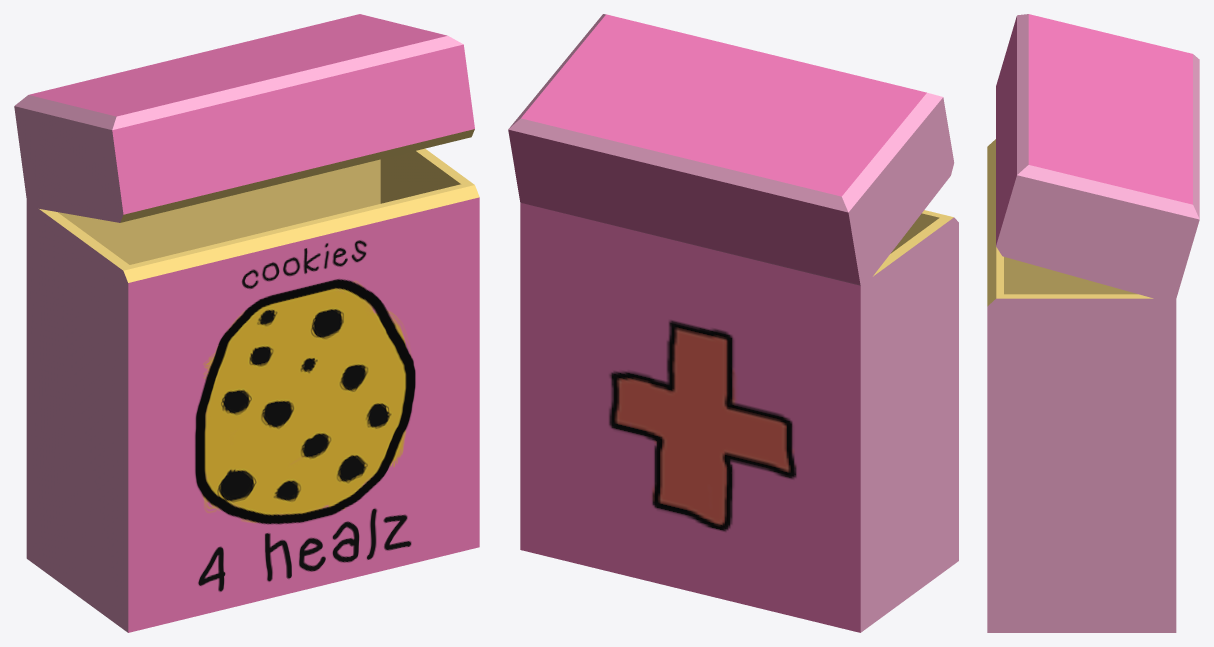
The model's file is CookieBox_01 (1).fbx.
3 views of the same model, side by side, from view 1: azimuth 30°, elevation 25°; view 2: azimuth 150°, elevation 25°; view 3: azimuth 270°, elevation 25° (orthographic). The views are drawn at different scales.
Parts seen in each view (by area): view 1: CookieBox; view 2: CookieBox; view 3: CookieBox.
Boxes of the visible parts, left/top/right/bottom form: CookieBox: left=14, top=14, right=479, bottom=632; CookieBox: left=508, top=14, right=958, bottom=632; CookieBox: left=987, top=14, right=1199, bottom=632.
Bounding box in the file's own units: 80 × 108 × 44.94.
Materials: 1 (1 with a texture image).
